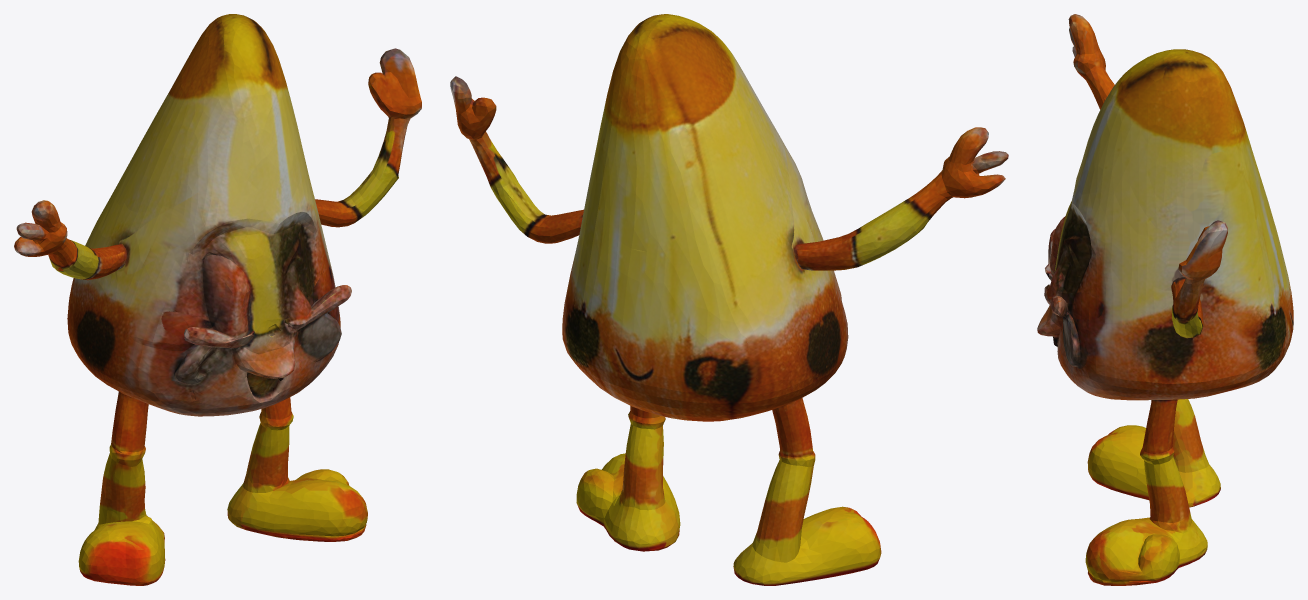
The picture shows the model from 3 angles, left to right: view 1: azimuth 30°, elevation 25°; view 2: azimuth 150°, elevation 25°; view 3: azimuth 270°, elevation 25°; orthographic projection. The views are drawn at different scales.
Visible parts, largest first — view 1: geometry_0; view 2: geometry_0; view 3: geometry_0.
Boxes of the visible parts, x1,y1,x2,y2 form: geometry_0: (14, 14, 421, 585); geometry_0: (450, 14, 1008, 585); geometry_0: (1037, 14, 1293, 585).
Size of the model in its own units: 0.9552 by 0.9966 by 0.4707.
Materials: 1 (1 with a texture image).
